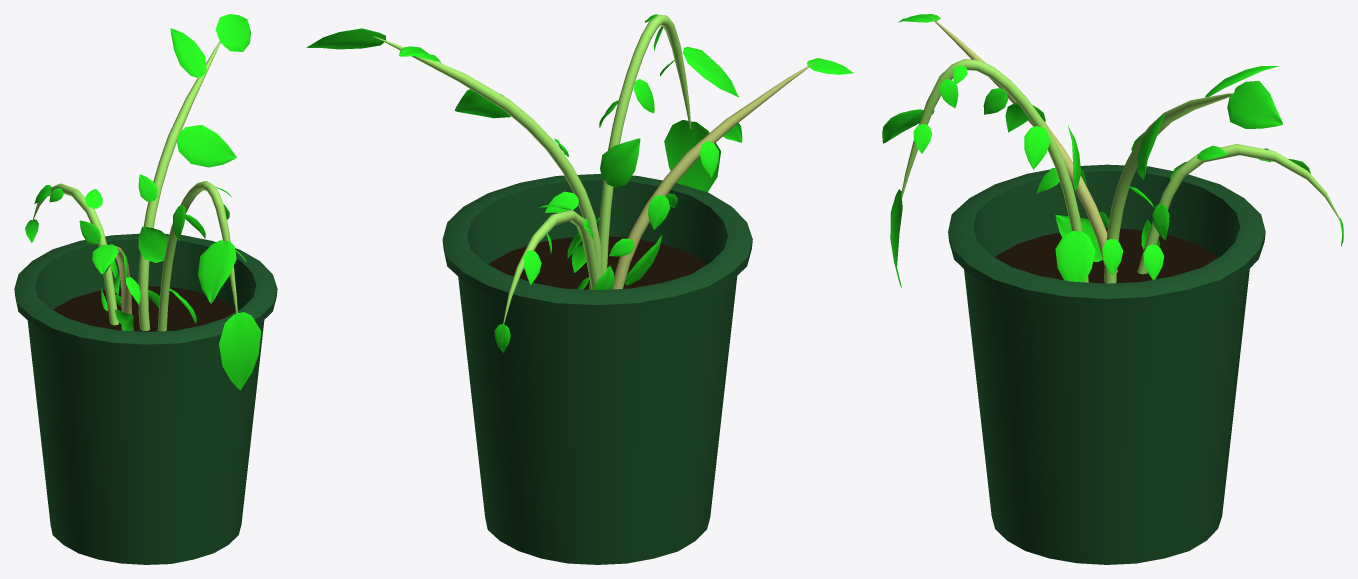
Rendered from Maceta.fbx.
3 views of the same model, side by side, from view 1: azimuth 30°, elevation 25°; view 2: azimuth 150°, elevation 25°; view 3: azimuth 270°, elevation 25° (orthographic). The views are drawn at different scales.
Parts seen in each view (by area): view 1: Maceta; view 2: Maceta; view 3: Maceta.
Boxes of the visible parts, x1,y1,x2,y2 form: Maceta: (14, 14, 277, 564); Maceta: (306, 14, 853, 564); Maceta: (882, 14, 1343, 564).
Bounding box in the file's own units: 0.7804 × 1.04 × 0.8456.
